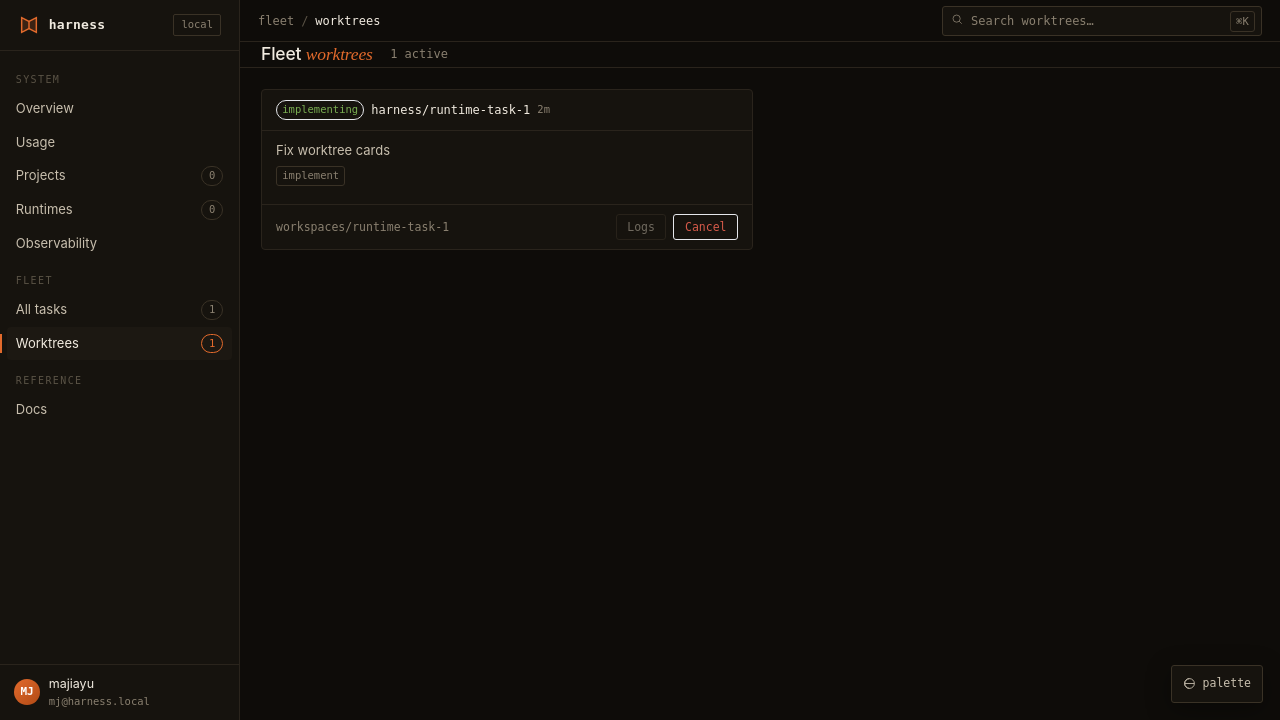
Test: <Worktrees> › refreshes worktree data when cancellation fails
The width and height of the screenshot is (1280, 720).
Click the button "Cancel".
click(706, 227)  # box [674, 214, 738, 240]
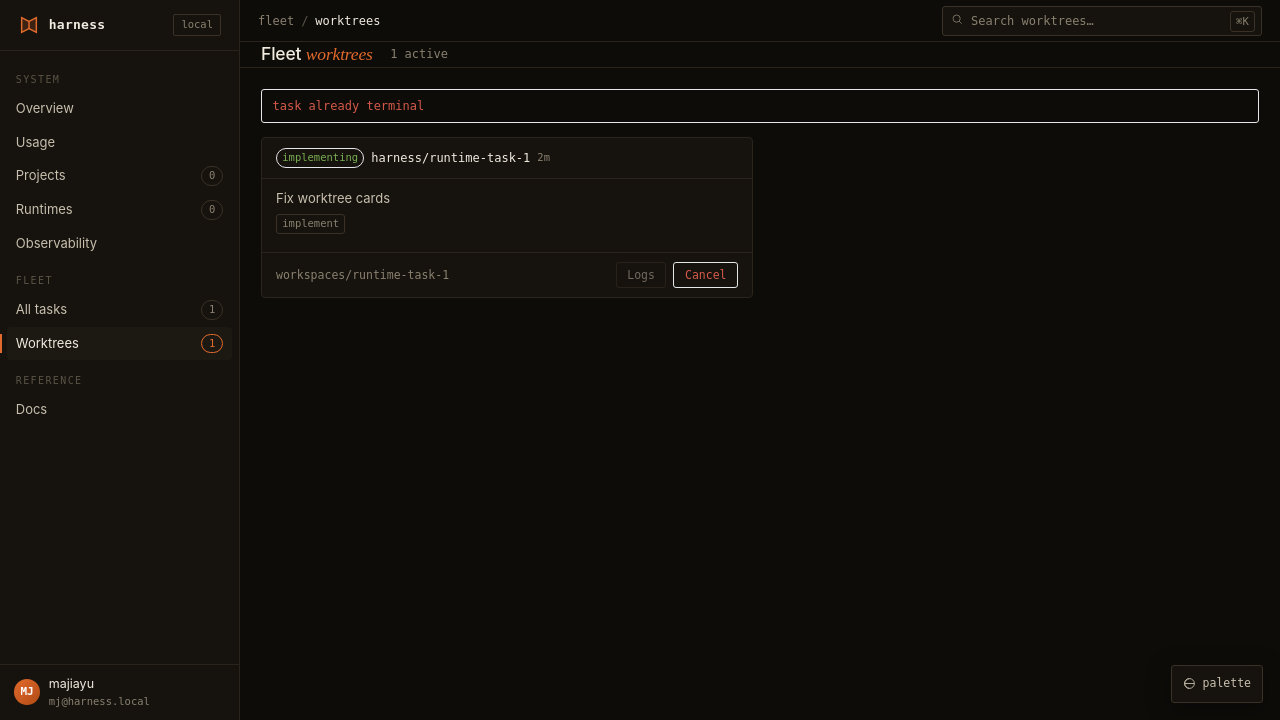
Check: the message reads "task already terminal", box [272, 98, 424, 112]
